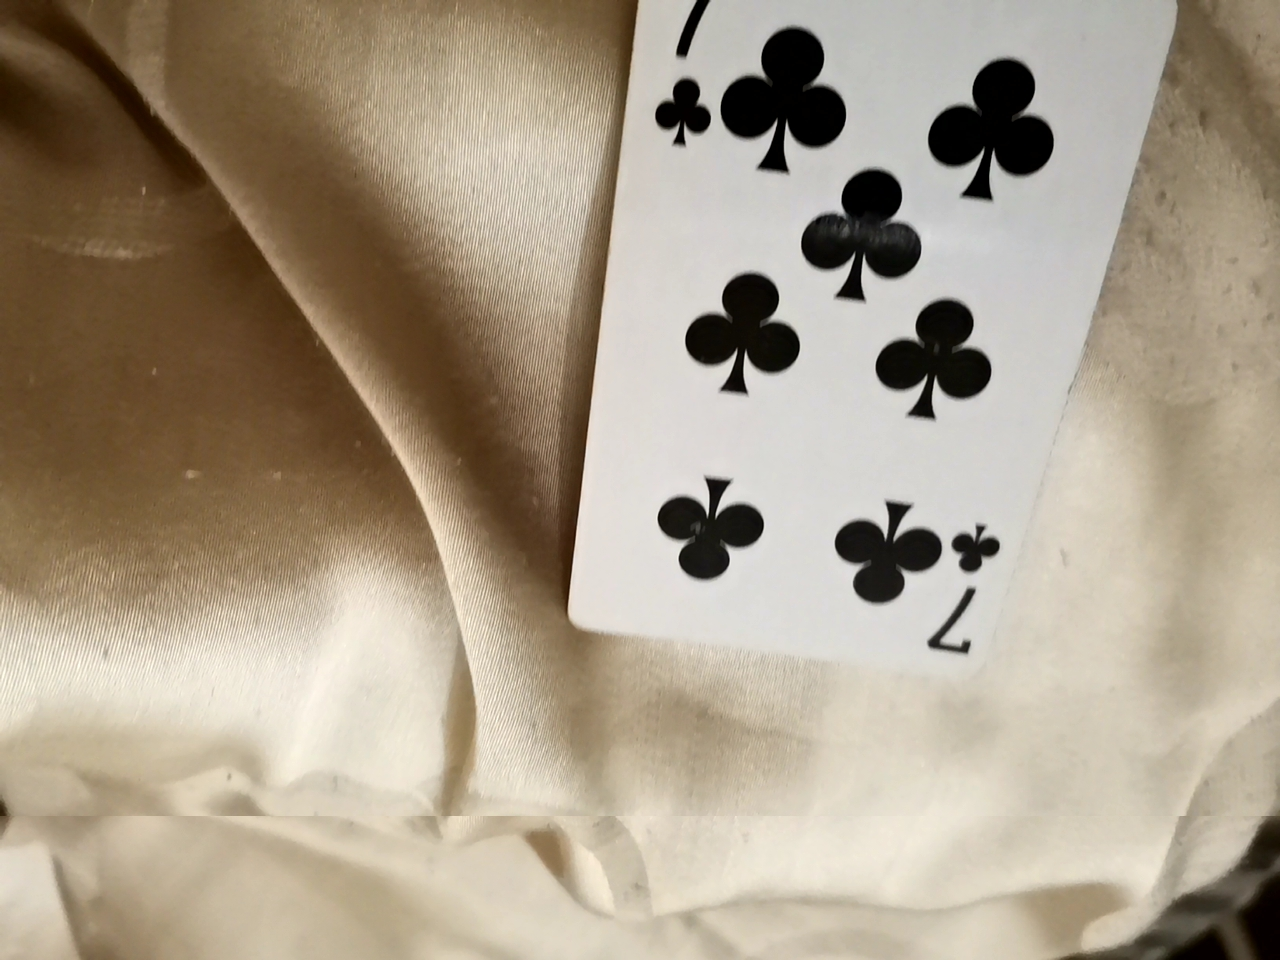mh 7: (583, 3, 1174, 681)
